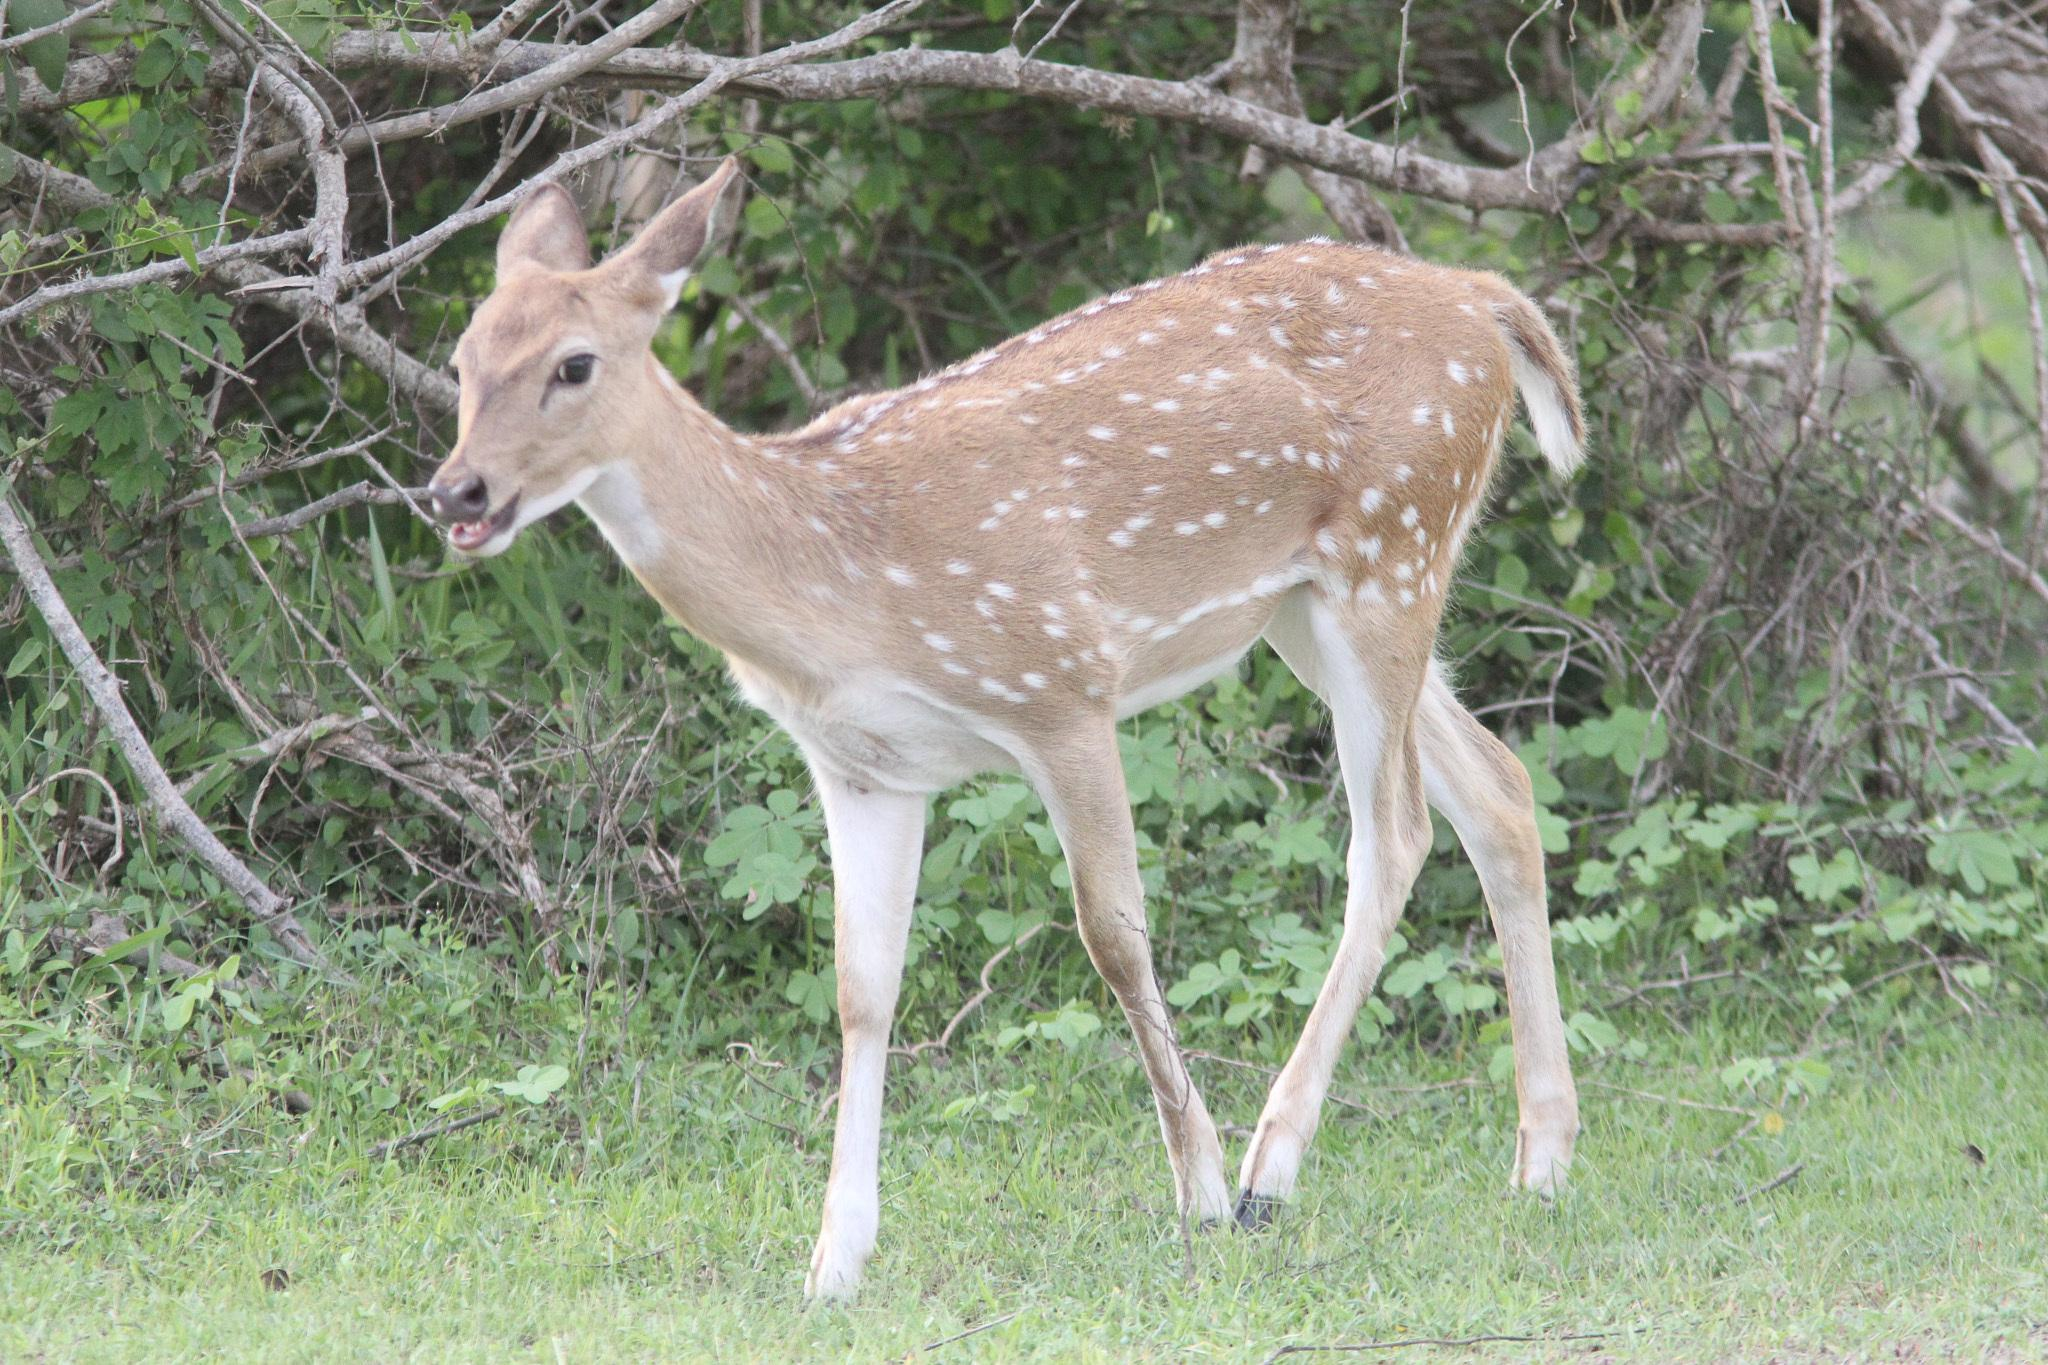Deer: (429, 158, 1584, 1296)
